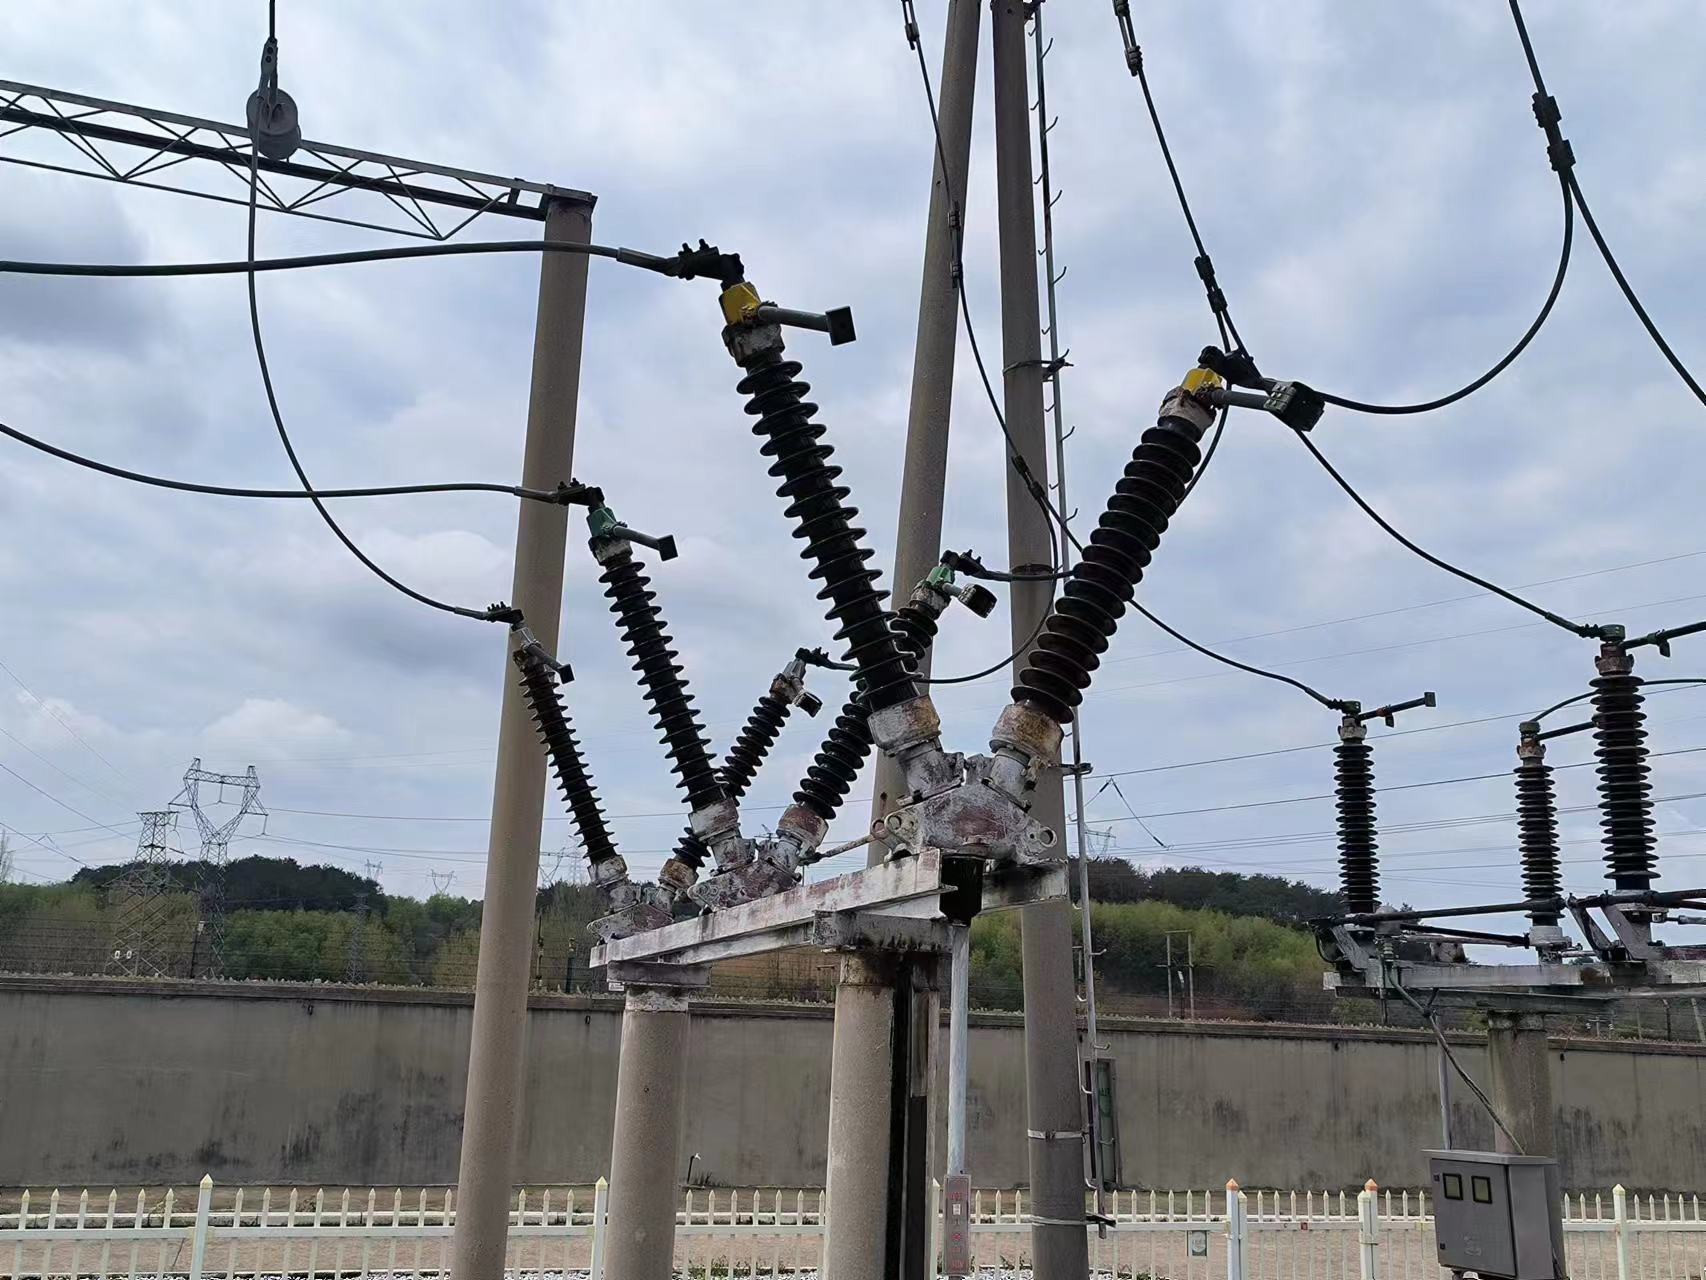Isolating switch: (717, 245, 1326, 859), (561, 479, 998, 871), (499, 625, 828, 925)
